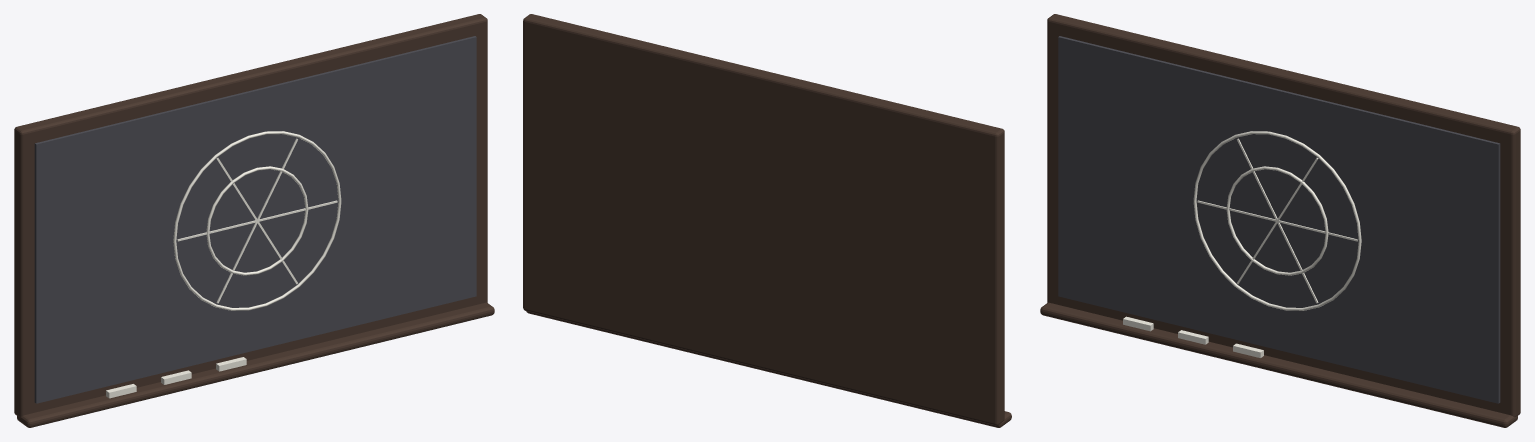
Rendered from blackboard_spell_diagram.glb.
3 renders of one model, left to right at view 1: azimuth 30°, elevation 25°; view 2: azimuth 150°, elevation 25°; view 3: azimuth 330°, elevation 25°, orthographic.
Visible parts, largest first — view 1: GD_blackboard_spell_diagram__m1, GD_blackboard_spell_diagram__m0, GD_blackboard_spell_diagram__m2; view 2: GD_blackboard_spell_diagram__m0; view 3: GD_blackboard_spell_diagram__m1, GD_blackboard_spell_diagram__m0, GD_blackboard_spell_diagram__m2.
Boxes of the visible parts, bbox=[...] form: GD_blackboard_spell_diagram__m1: bbox=[34, 36, 476, 403]; GD_blackboard_spell_diagram__m0: bbox=[14, 14, 494, 427]; GD_blackboard_spell_diagram__m2: bbox=[106, 131, 341, 398]; GD_blackboard_spell_diagram__m0: bbox=[523, 14, 1011, 427]; GD_blackboard_spell_diagram__m1: bbox=[1058, 36, 1500, 403]; GD_blackboard_spell_diagram__m0: bbox=[1040, 14, 1520, 427]; GD_blackboard_spell_diagram__m2: bbox=[1123, 131, 1361, 357].
Size of the model in its own units: 1.7 by 1.01 by 0.095.
